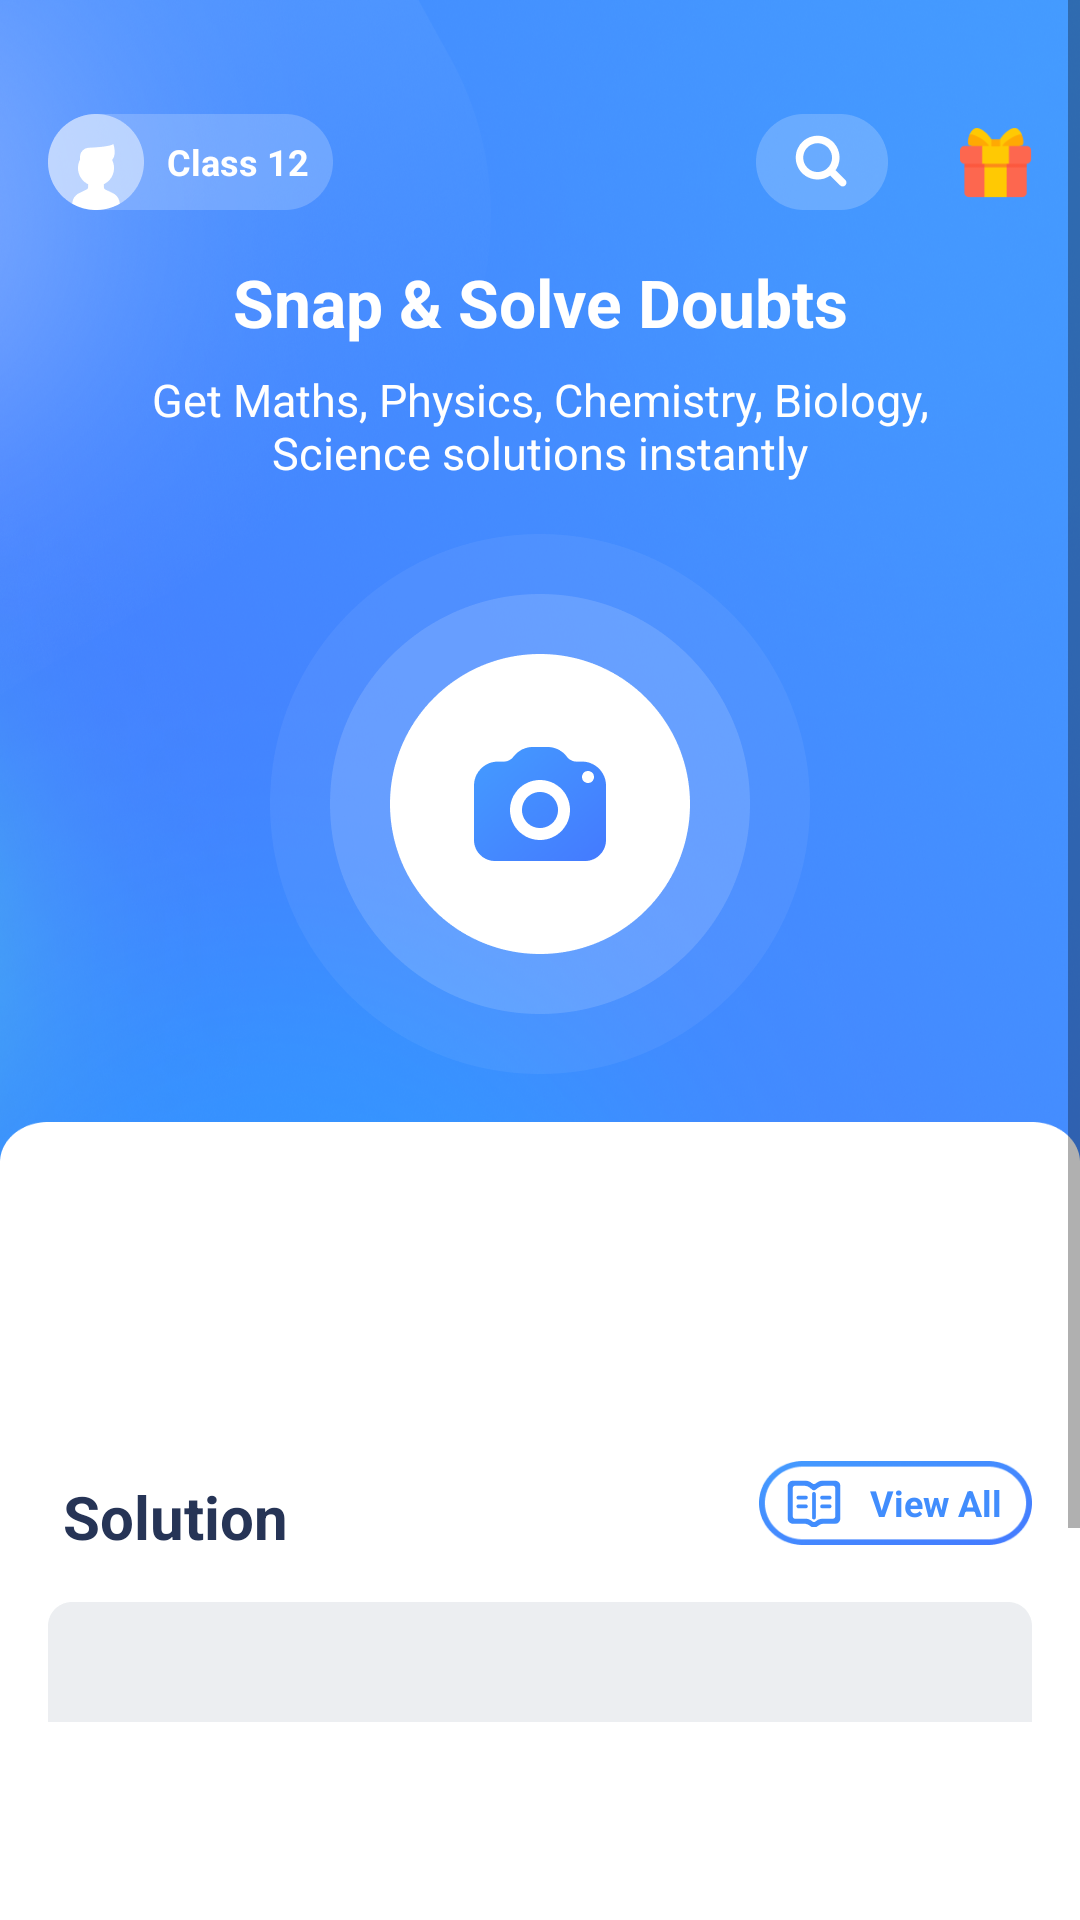

Point at icon controls on the screen. Image size 1080 x 1920, points as (x,y).
gift: (995,163)
search: (822,162)
